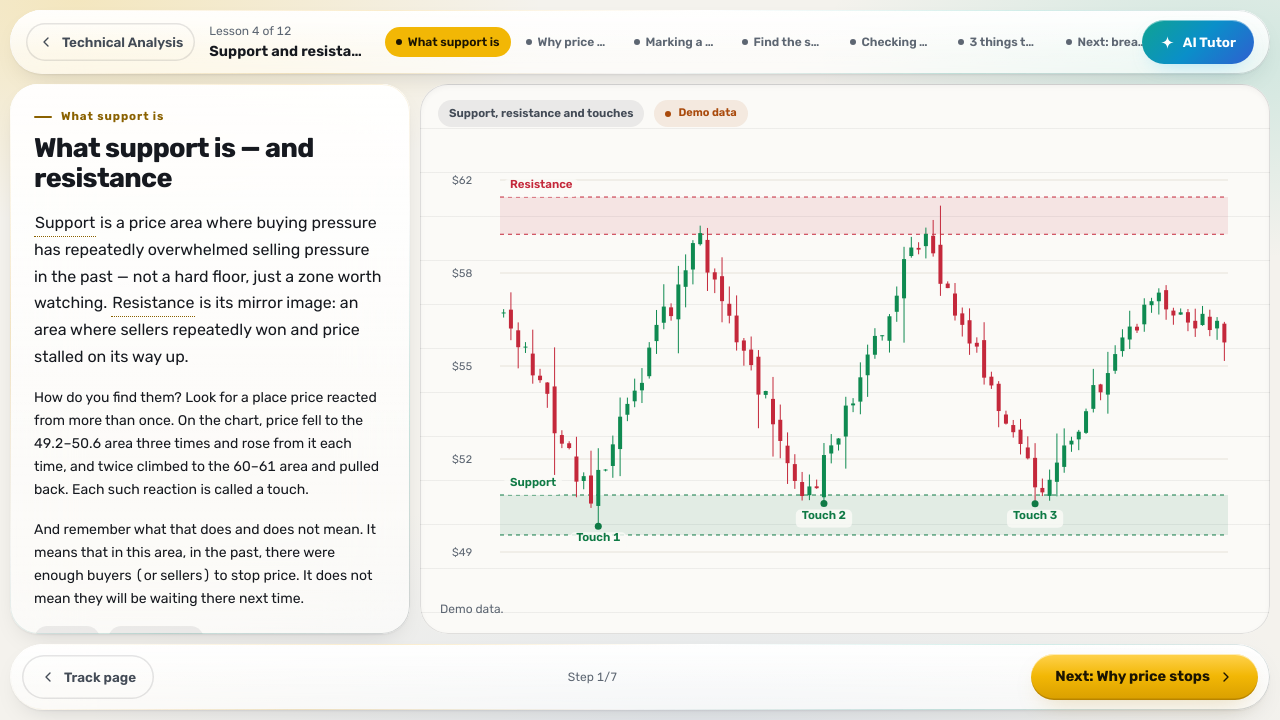
Test case: Technical Analysis 2–5 in the lesson workspace › T4 in English, with its order-book figure on step 2
The width and height of the screenshot is (1280, 720).
Check: the heading "What support is — and resistance" is shown, box left=34, top=132, right=314, bottom=194
Click the button "Why price stops". click: (566, 42)
box: left=514, top=27, right=618, bottom=57
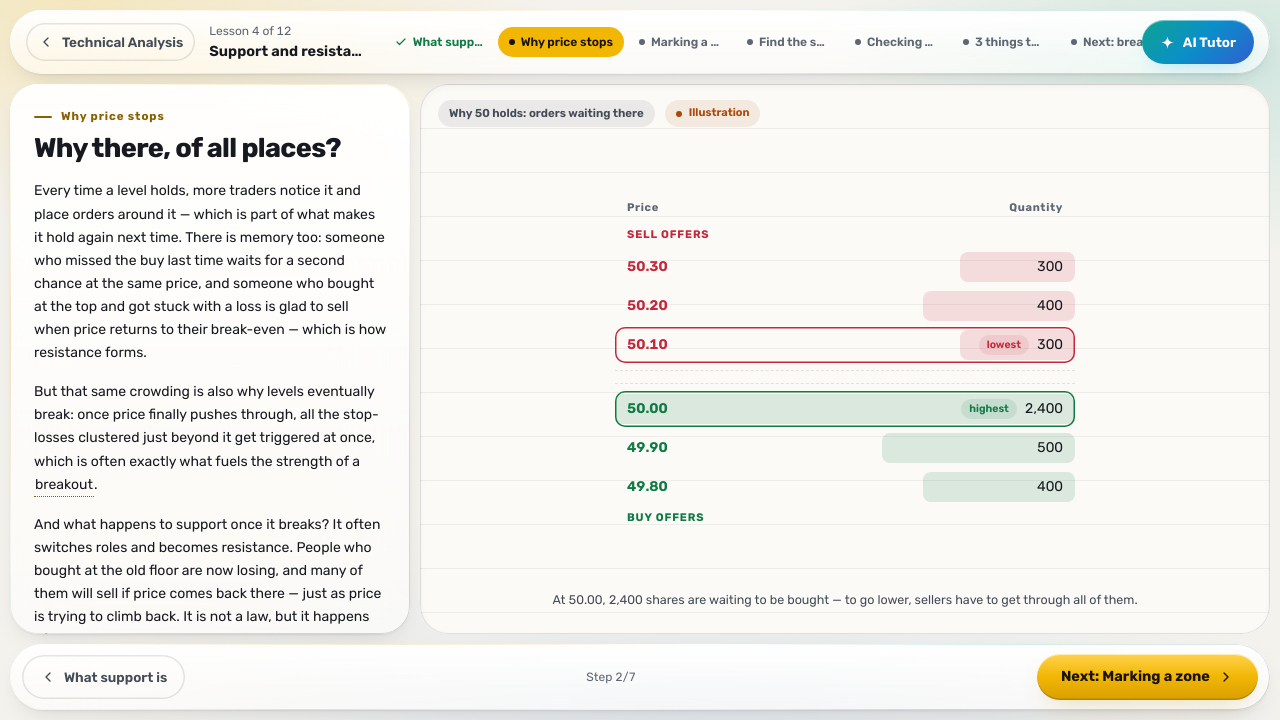
Check: the text "Why 50 holds: orders waiting there" is shown, box left=438, top=100, right=655, bottom=127
